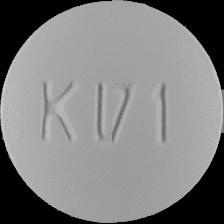35356-603: (0, 0, 224, 224)
